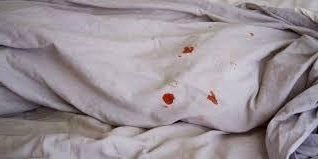blood: (162, 92, 175, 105), (207, 92, 219, 104), (184, 47, 193, 54)
